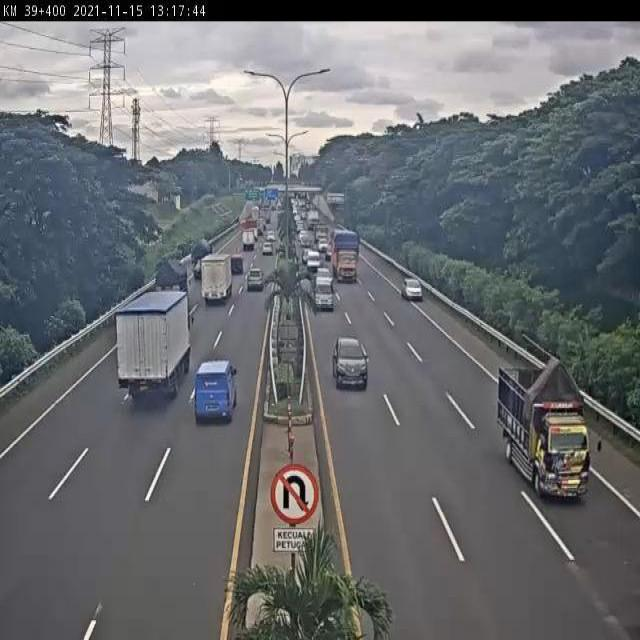bus-s-: (193, 358, 238, 426)
car: (332, 335, 368, 389), (313, 275, 335, 312), (244, 265, 266, 295), (400, 276, 424, 303)
truck-m-: (497, 354, 592, 502), (114, 284, 192, 395), (200, 249, 234, 304), (332, 225, 361, 287), (156, 256, 189, 296)
